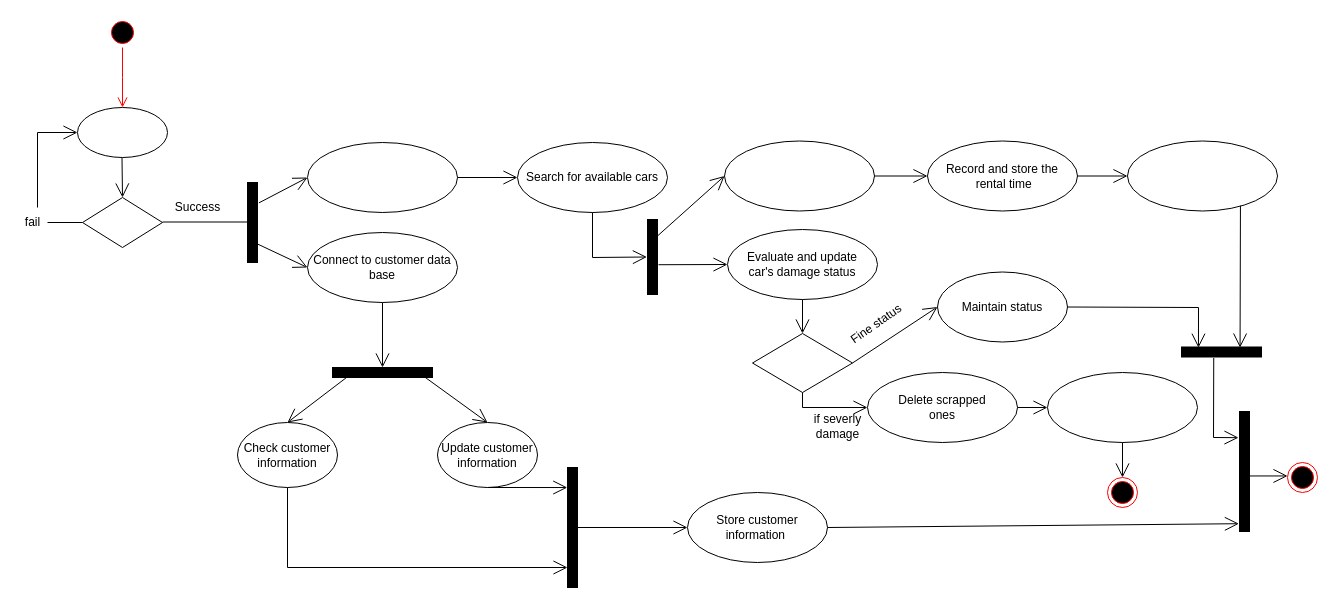
Image size: 1335x605. Some labels were removed from this diagram. Each missing label, with the centre of its shape:
Add new cars: (x=1122, y=407)
Calculate and update the rental fee: (x=1202, y=175)
Connect to car data base: (x=382, y=177)
Log in: (x=122, y=132)
Record the rented ones: (x=799, y=175)
